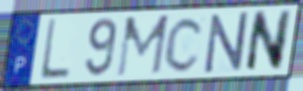9: (84, 17, 119, 79)
C: (162, 15, 207, 74)
L: (38, 17, 72, 82)
M: (114, 12, 172, 79)
N: (242, 8, 294, 75), (203, 10, 250, 76)
